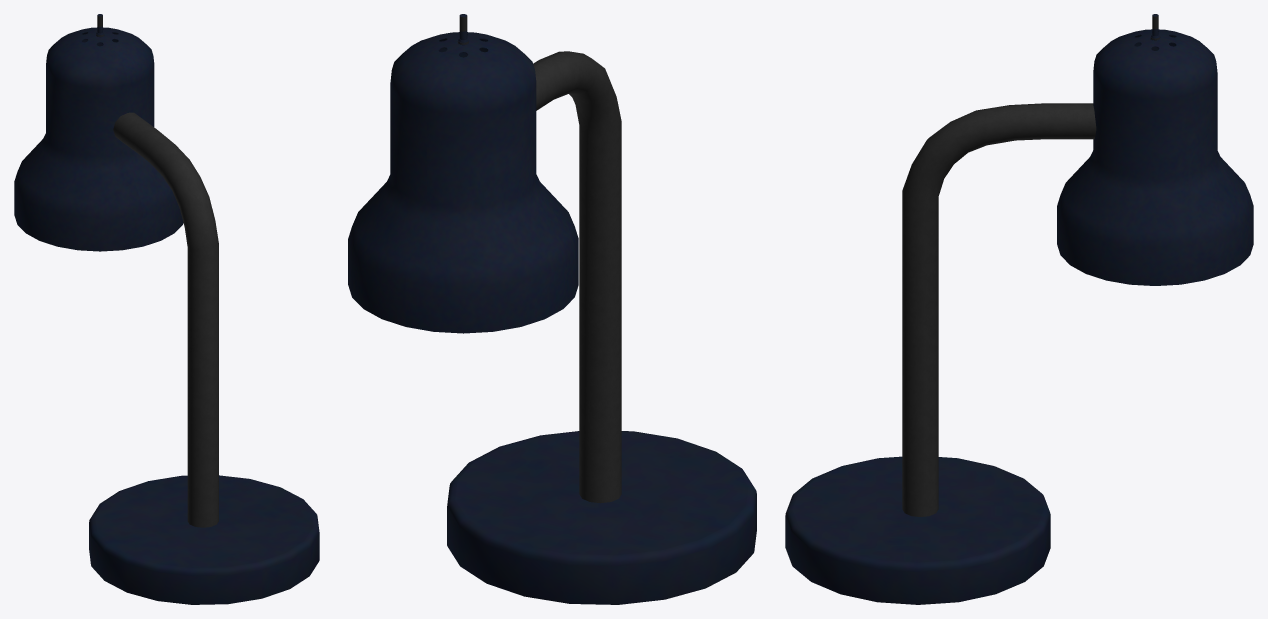
The model's file is lamp.FBX.
3 renders of one model, left to right at view 1: azimuth 30°, elevation 25°; view 2: azimuth 150°, elevation 25°; view 3: azimuth 270°, elevation 25°, orthographic. The views are drawn at different scales.
Parts seen in each view (by area): view 1: Cylinder002; view 2: Cylinder002; view 3: Cylinder002.
Boxes of the visible parts, <box> form: Cylinder002: <box>14,14,319,604</box>; Cylinder002: <box>348,14,756,604</box>; Cylinder002: <box>785,14,1253,604</box>.
Size of the model in its own units: 15.24 by 33.83 by 26.88.
2 materials, 2 textured.
